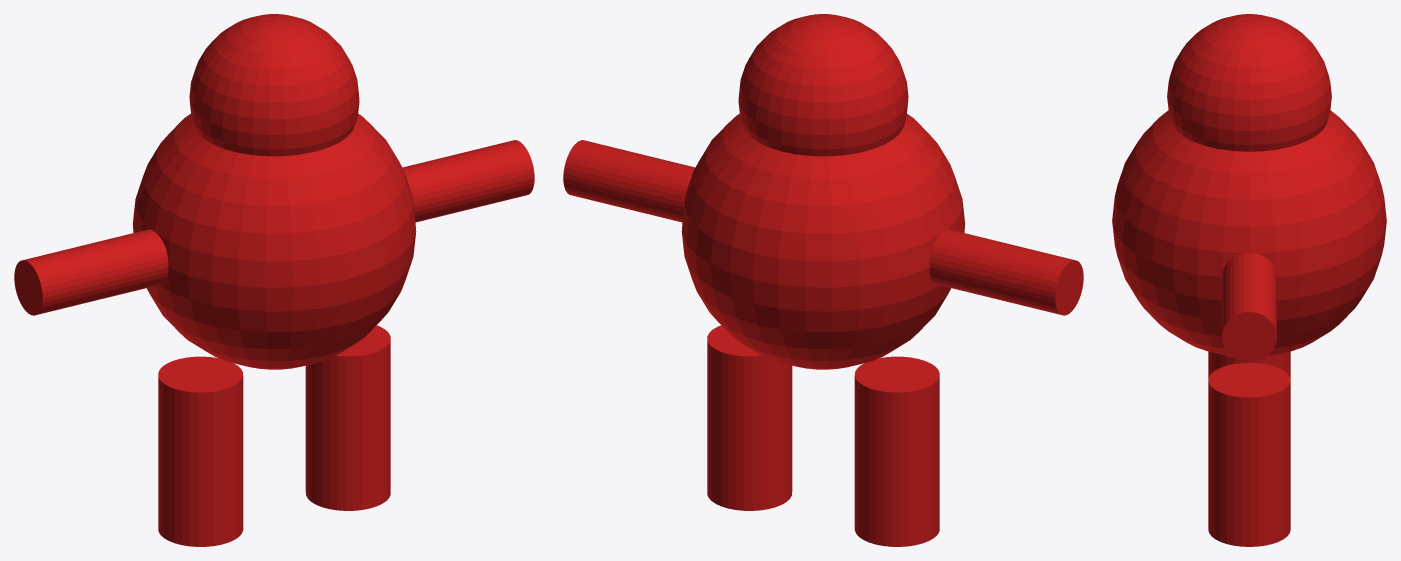
Rendered from mario.obj.
3 views of the same model, side by side, from view 1: azimuth 30°, elevation 25°; view 2: azimuth 150°, elevation 25°; view 3: azimuth 270°, elevation 25° (orthographic). The views are drawn at different scales.
Visible parts, largest first — view 1: Body, Head, Leg_1, Leg_2, Arm_1, Arm_2; view 2: Body, Head, Leg_1, Leg_2, Arm_1, Arm_2; view 3: Body, Head, Leg_2, Arm_2, Leg_1.
Part boxes in pixels (box(x1,y1,x2,y2)): Body: box(132, 114, 416, 369); Head: box(189, 14, 359, 156); Leg_1: box(158, 356, 243, 546); Leg_2: box(305, 325, 390, 510); Arm_1: box(14, 229, 168, 315); Arm_2: box(402, 140, 534, 222); Body: box(681, 114, 965, 369); Head: box(738, 14, 908, 156); Leg_1: box(854, 356, 939, 546); Leg_2: box(707, 325, 792, 510); Arm_1: box(929, 229, 1083, 315); Arm_2: box(563, 140, 695, 222); Body: box(1112, 110, 1386, 356); Head: box(1167, 14, 1331, 151); Leg_2: box(1208, 362, 1290, 546); Arm_2: box(1222, 253, 1276, 361); Leg_1: box(1208, 351, 1290, 378).
Size of the model in its own units: 2 by 1.9 by 1.
